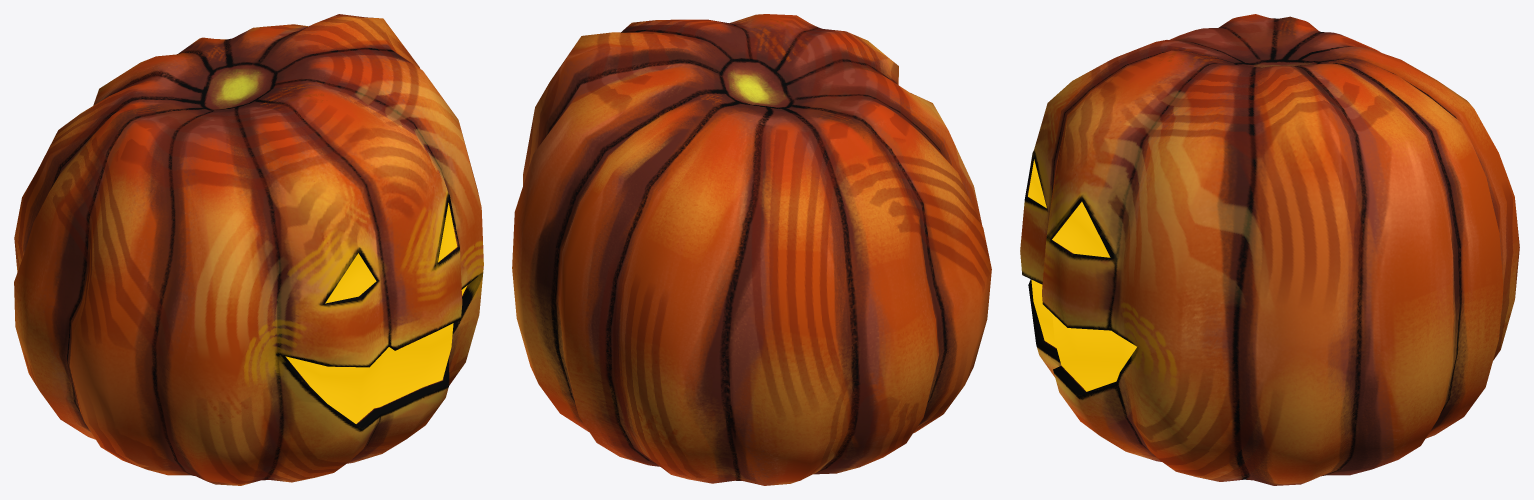
File: JackOLantern.glb
3 views of the same model, side by side, from view 1: azimuth 30°, elevation 25°; view 2: azimuth 150°, elevation 25°; view 3: azimuth 270°, elevation 25° (orthographic). The views are drawn at different scales.
Parts seen in each view (by area): view 1: JackOlatern; view 2: JackOlatern; view 3: JackOlatern.
Part boxes in pixels (x1,y1,x2,y2): JackOlatern: [14, 14, 483, 485]; JackOlatern: [512, 14, 991, 485]; JackOlatern: [1020, 14, 1519, 485].
Size of the model in its own units: 3.17 by 2.96 by 3.22.
Materials: 2 (1 with a texture image).
